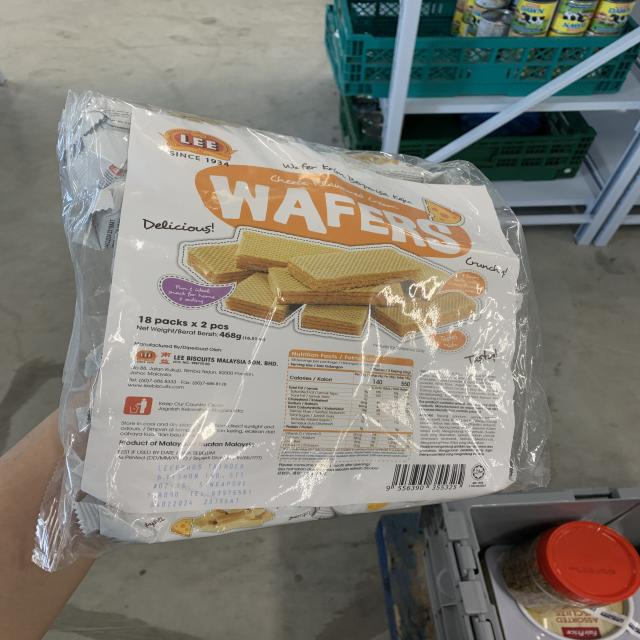object_name: (76, 104, 511, 512)
